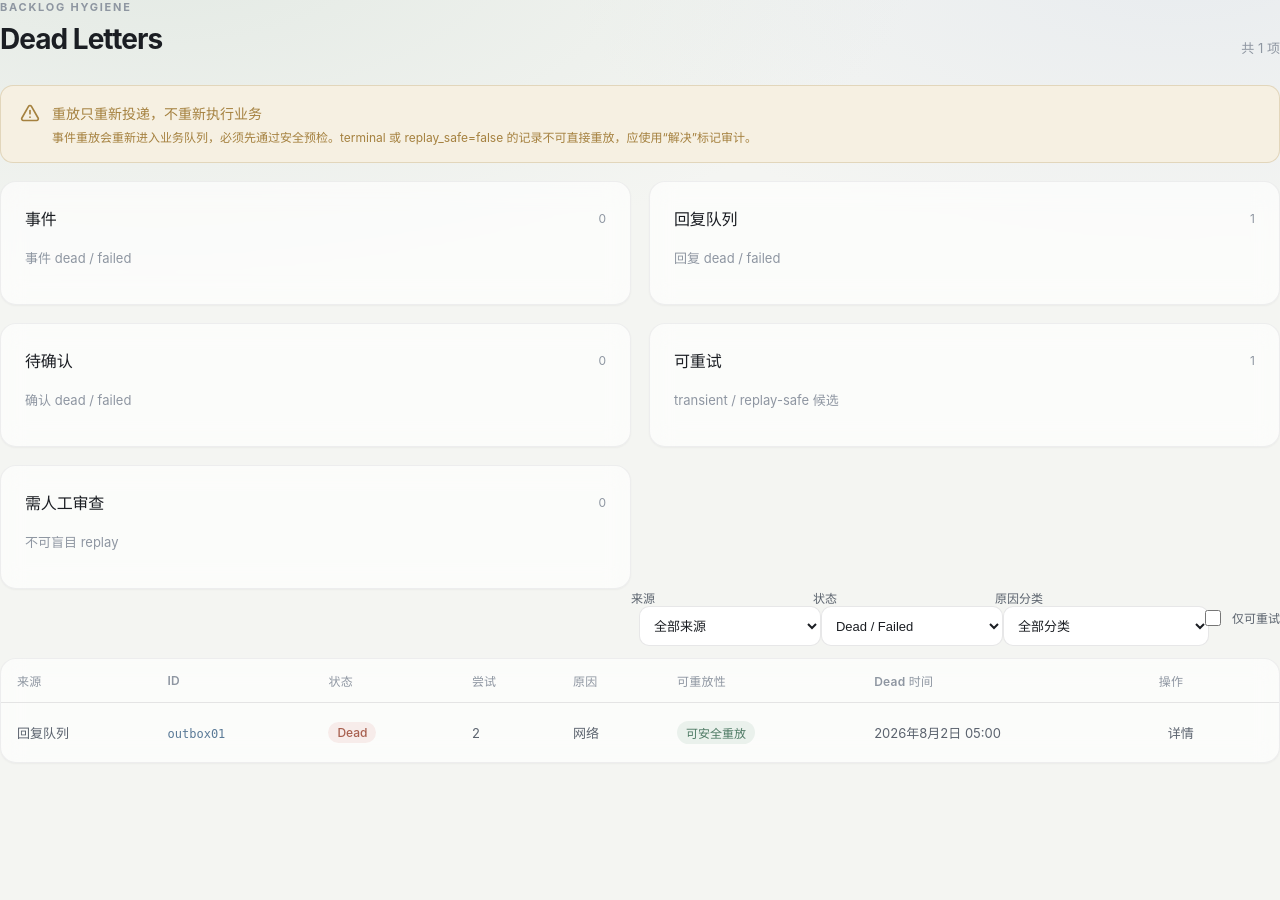
DeadLettersPage › posts a replay with the reason and shows the notice
The image size is (1280, 900).
Click the button "详情".
click(1181, 732)  # box [1159,717,1203,748]
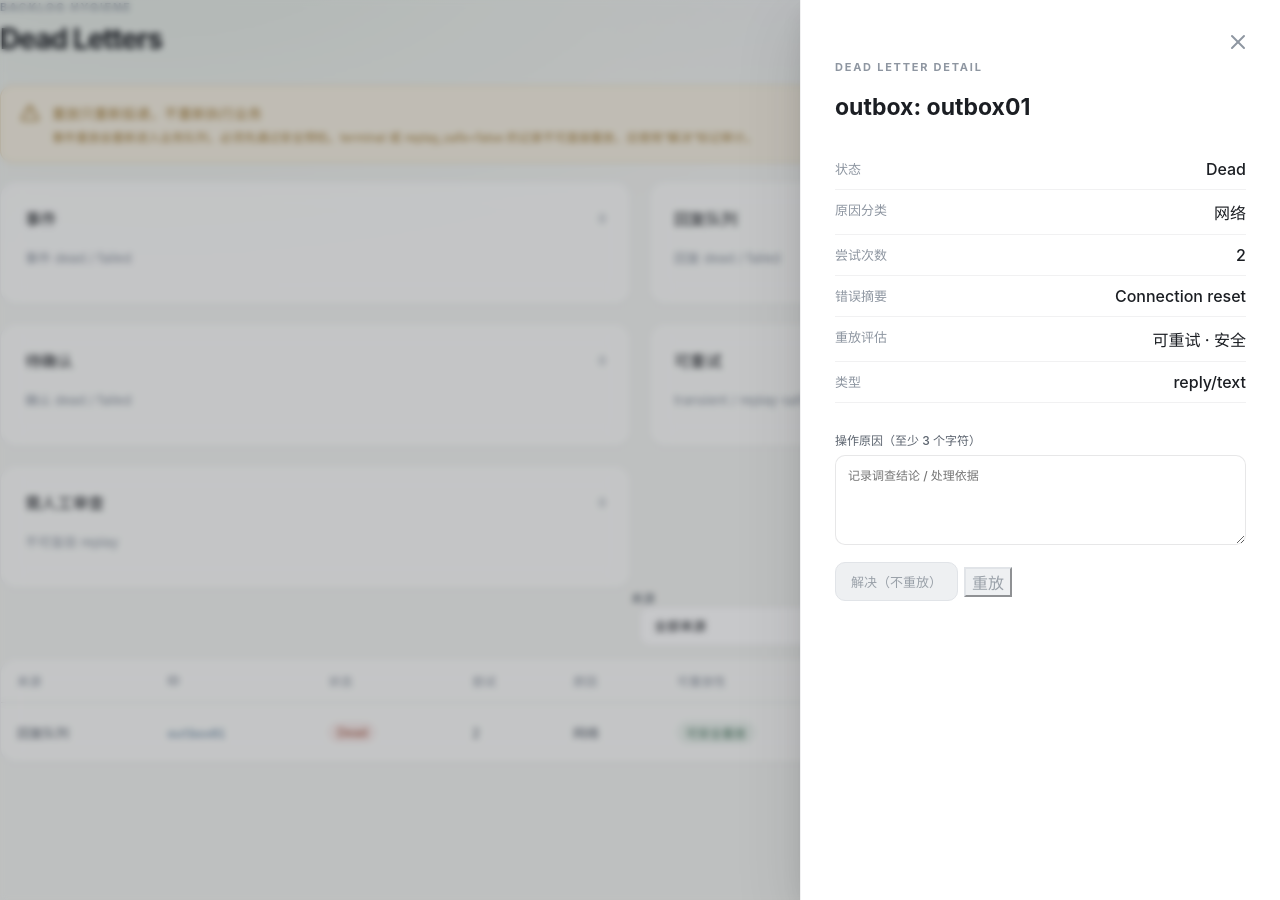
Type "dependency recovered" into the text box with placeholder "记录调查结论 / 处理依据".
click(1040, 500); type("dependency recovered")  # box [835,455,1246,545]
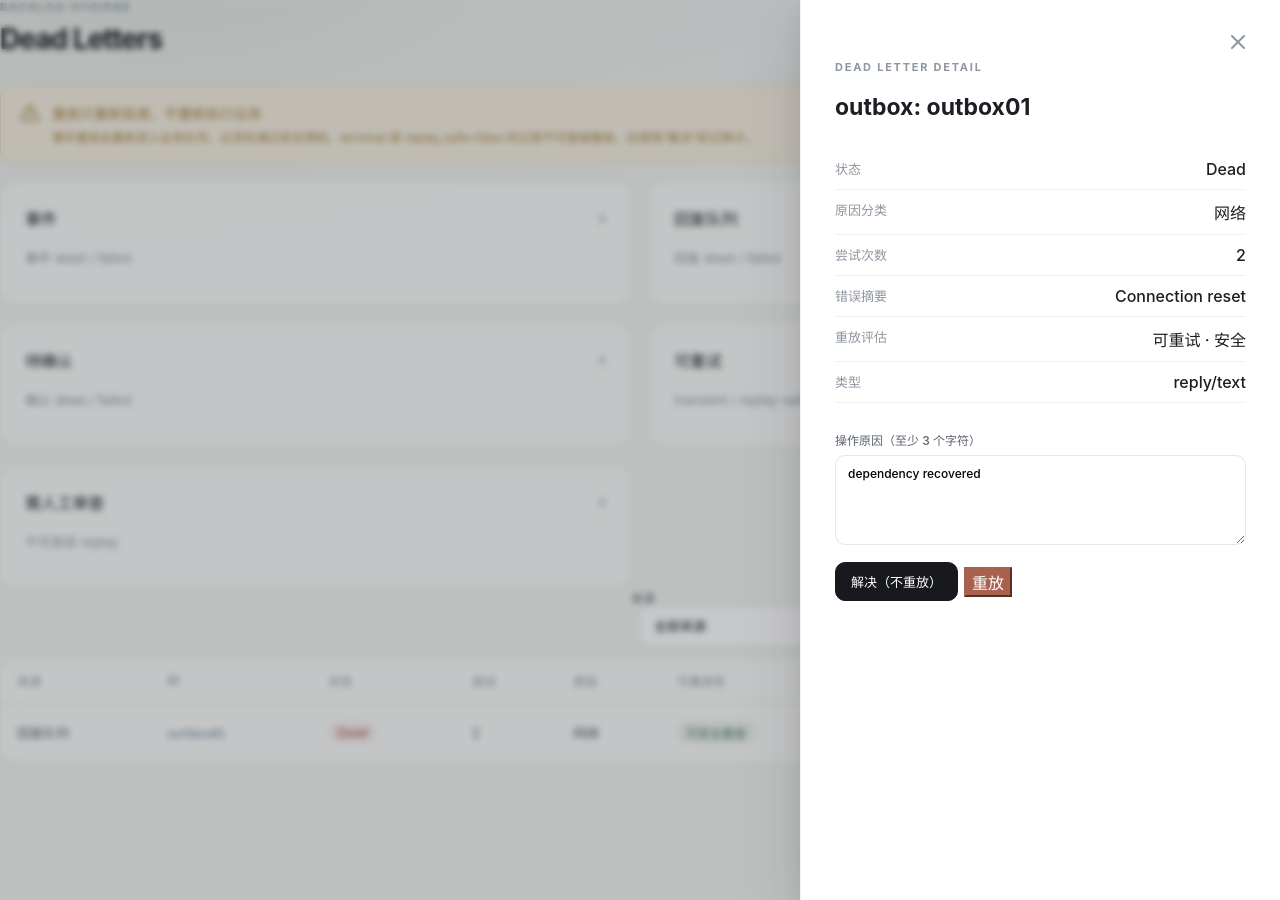
Click the button "重放".
click(988, 582)  # box [964,567,1012,597]
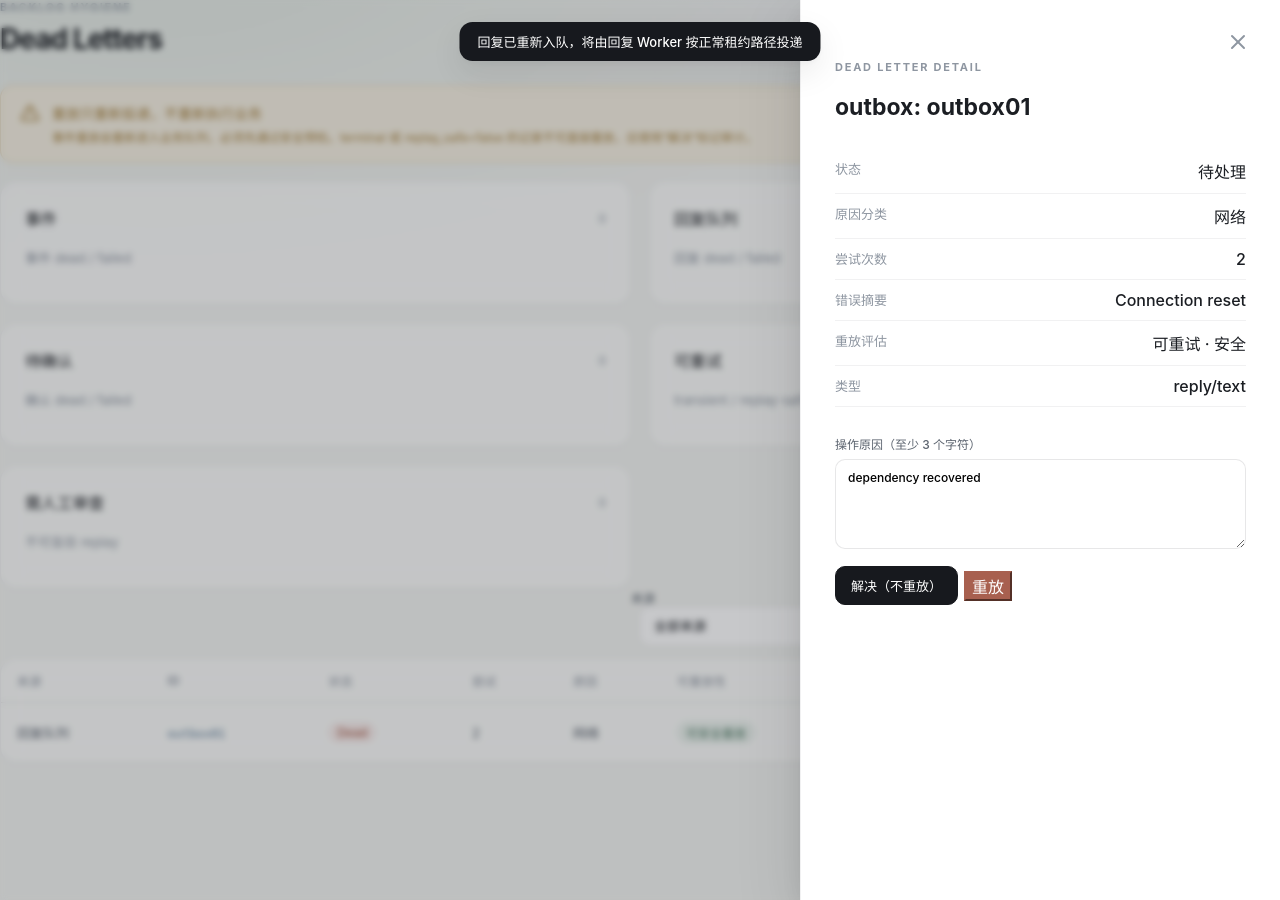
Now the text "回复已重新入队，将由回复 Worker 按正常租约路径投递" is shown, box [460,22,820,61]
